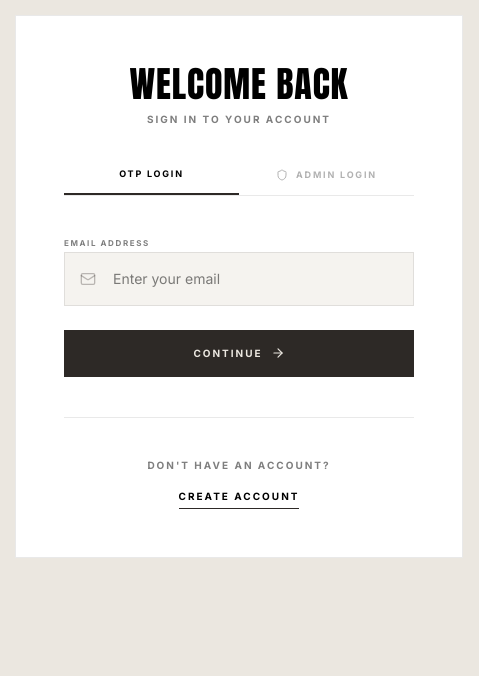
Test case: Login › shows Admin Login fields when switching mode
This screenshot has width=479, height=676.
Click the button "Admin Login" at (326, 181), box [239,167,414,194]
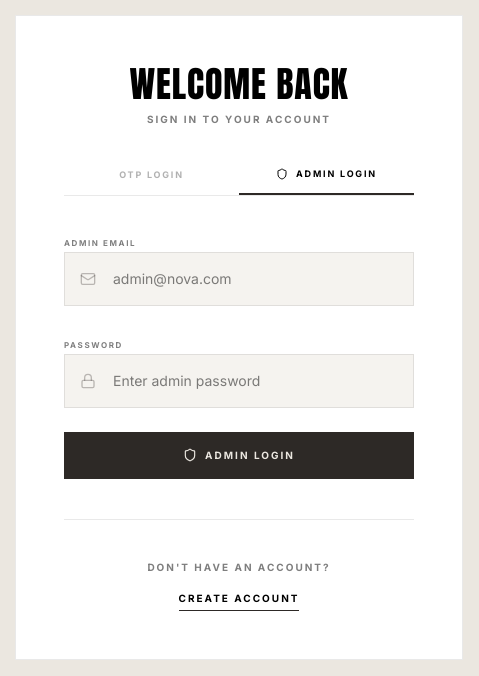
Now the field with placeholder "admin@nova.com" is shown, box [64,252,414,306]
Now the password field with placeholder "Enter admin password" is shown, box [64,354,414,408]
